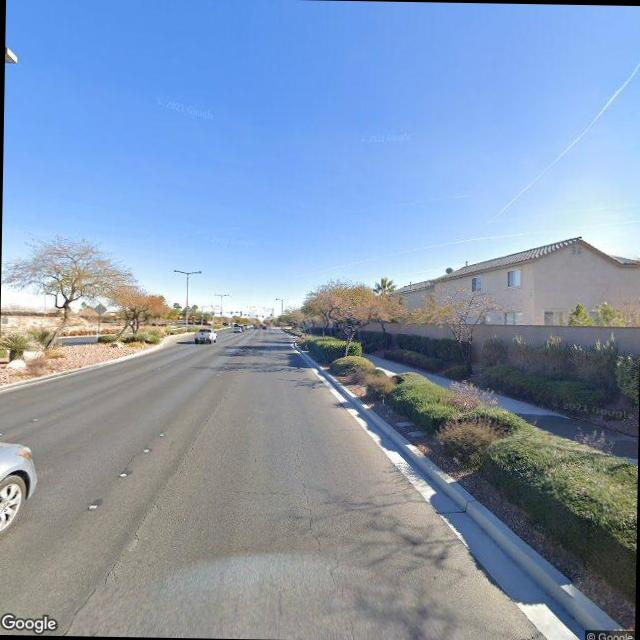pothole: (295, 473, 324, 557)
